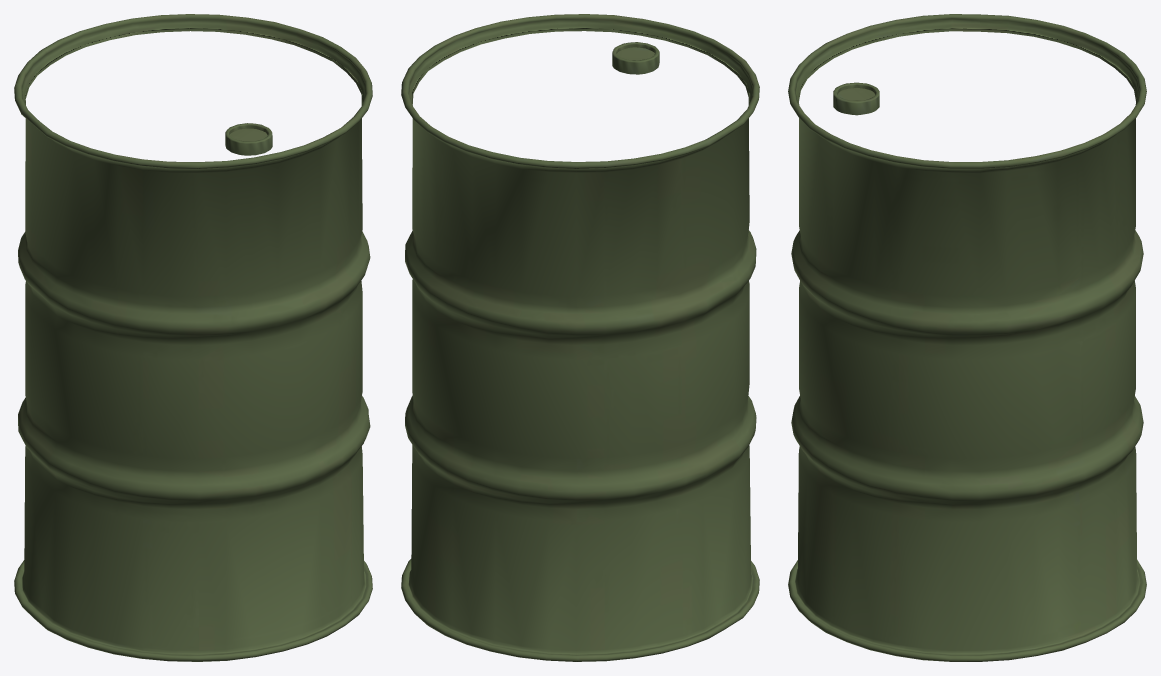
The model's file is fuel.glb.
3 views of the same model, side by side, from view 1: azimuth 30°, elevation 25°; view 2: azimuth 150°, elevation 25°; view 3: azimuth 270°, elevation 25° (orthographic).
Visible parts, largest first — view 1: body; view 2: body; view 3: body.
Boxes of the visible parts, <box> form: body: <box>14,14,372,661</box>; body: <box>401,14,759,661</box>; body: <box>788,14,1146,661</box>.
Size of the model in its own units: 0.7154 by 1.1 by 0.7154.
1 material, 1 textured.
